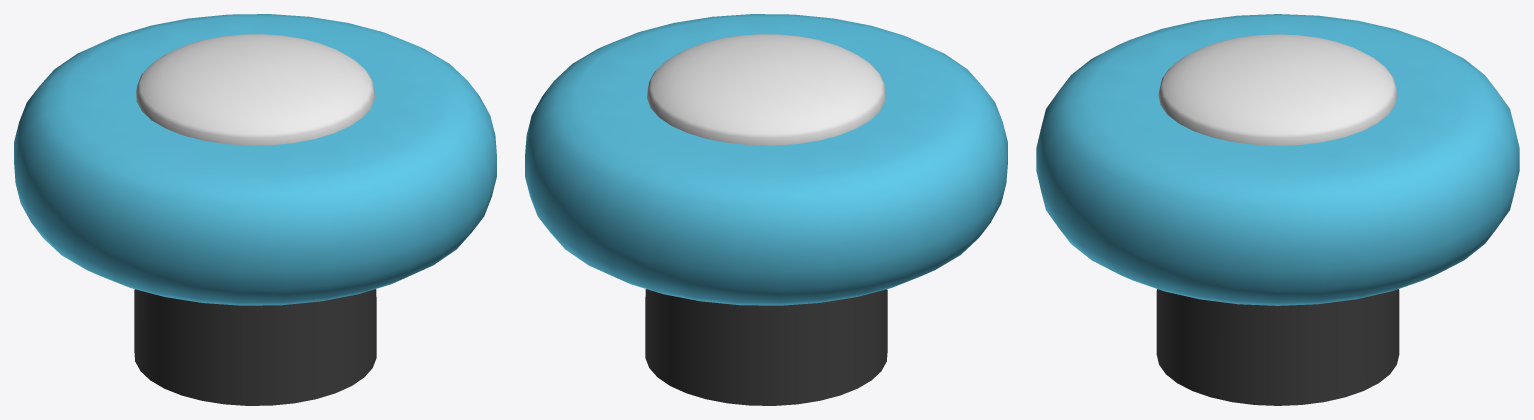
Rendered from bouncer (1).fbx.
The picture shows the model from 3 angles, left to right: view 1: azimuth 30°, elevation 25°; view 2: azimuth 150°, elevation 25°; view 3: azimuth 270°, elevation 25°; orthographic projection.
Parts seen in each view (by area): view 1: bouncerMid, bouncerBottom, bouncerTop; view 2: bouncerMid, bouncerBottom, bouncerTop; view 3: bouncerMid, bouncerBottom, bouncerTop.
Part boxes in pixels (x1,y1,x2,y2): bouncerMid: [14, 14, 496, 305]; bouncerBottom: [134, 289, 376, 405]; bouncerTop: [136, 34, 374, 145]; bouncerMid: [525, 14, 1007, 305]; bouncerBottom: [645, 289, 887, 405]; bouncerTop: [647, 34, 885, 145]; bouncerMid: [1036, 14, 1519, 305]; bouncerBottom: [1156, 289, 1399, 405]; bouncerTop: [1158, 34, 1397, 145].
Size of the model in its own units: 0.4042 by 0.2699 by 0.4042.
